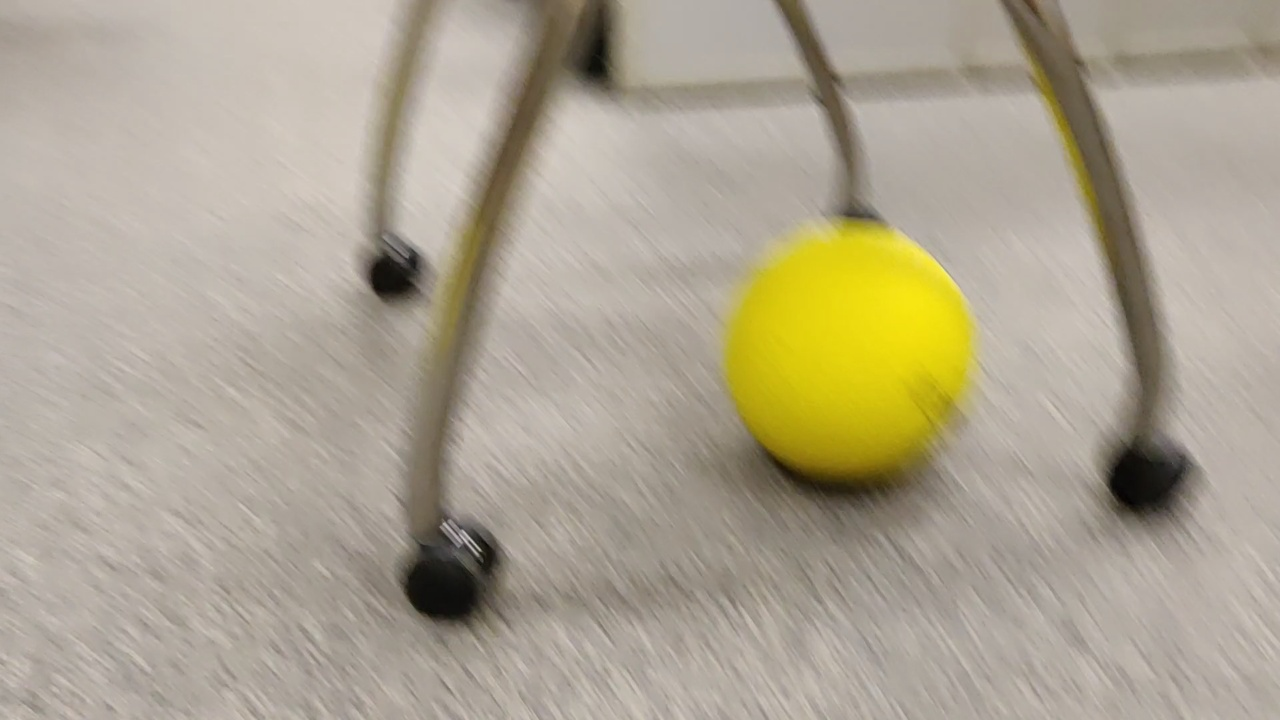Ball: (732, 221, 988, 493)
